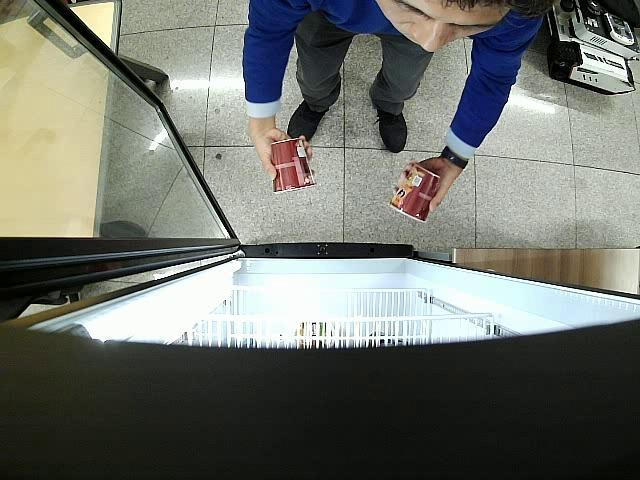06_nuguri_S: (388, 164, 441, 223), (272, 138, 316, 194)
